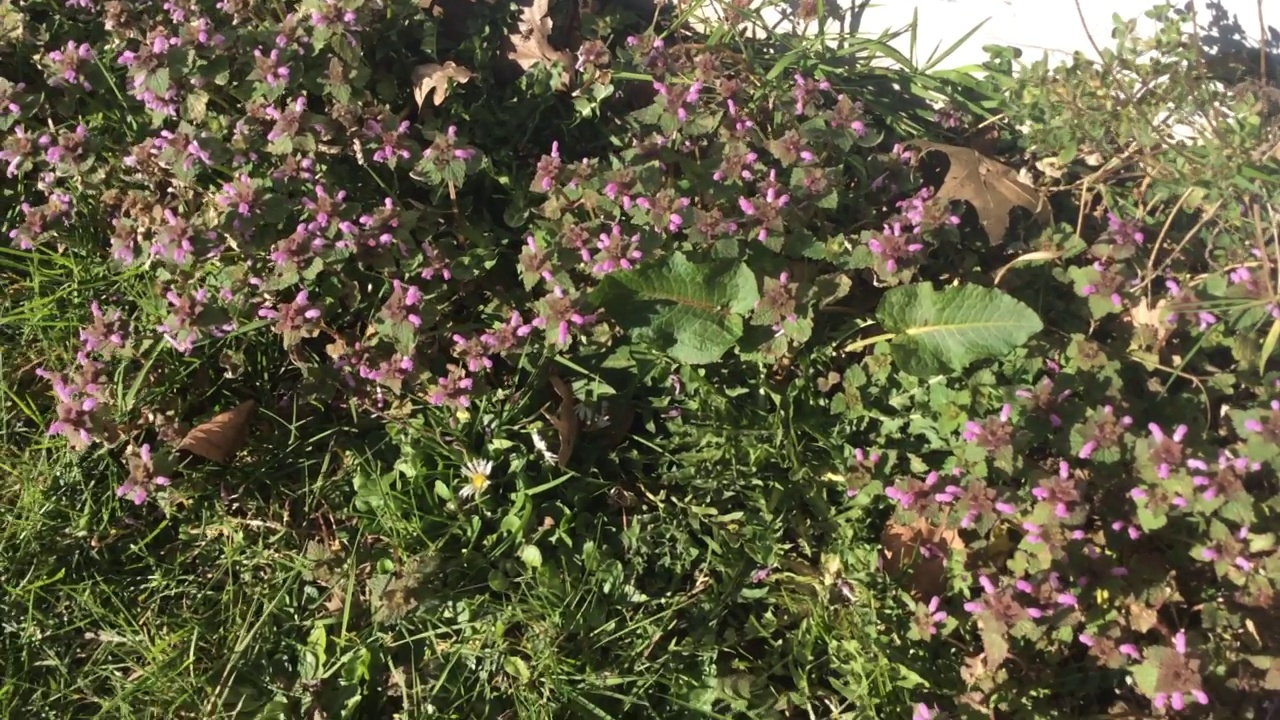rumex: (572, 249, 1044, 377)
